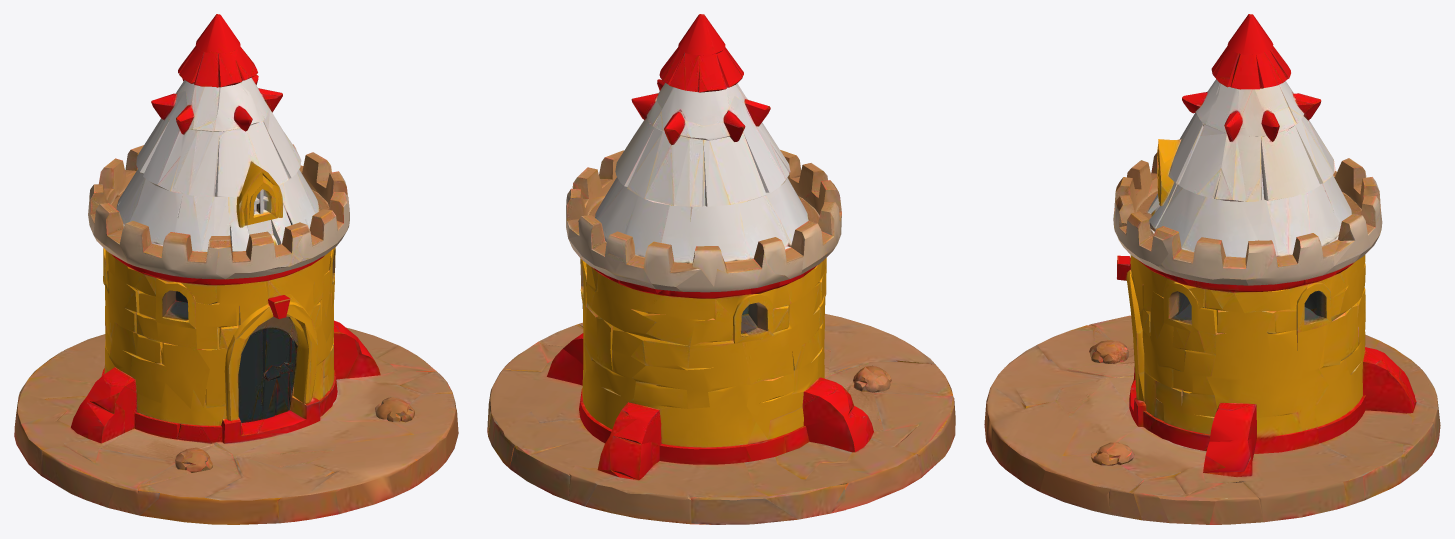
Rendered from tower.glb.
3 views of the same model, side by side, from view 1: azimuth 30°, elevation 25°; view 2: azimuth 150°, elevation 25°; view 3: azimuth 270°, elevation 25° (orthographic). The views are drawn at different scales.
Size of the model in its own units: 1.9 by 1.9 by 1.9.
Materials: 1 (1 with a texture image).
